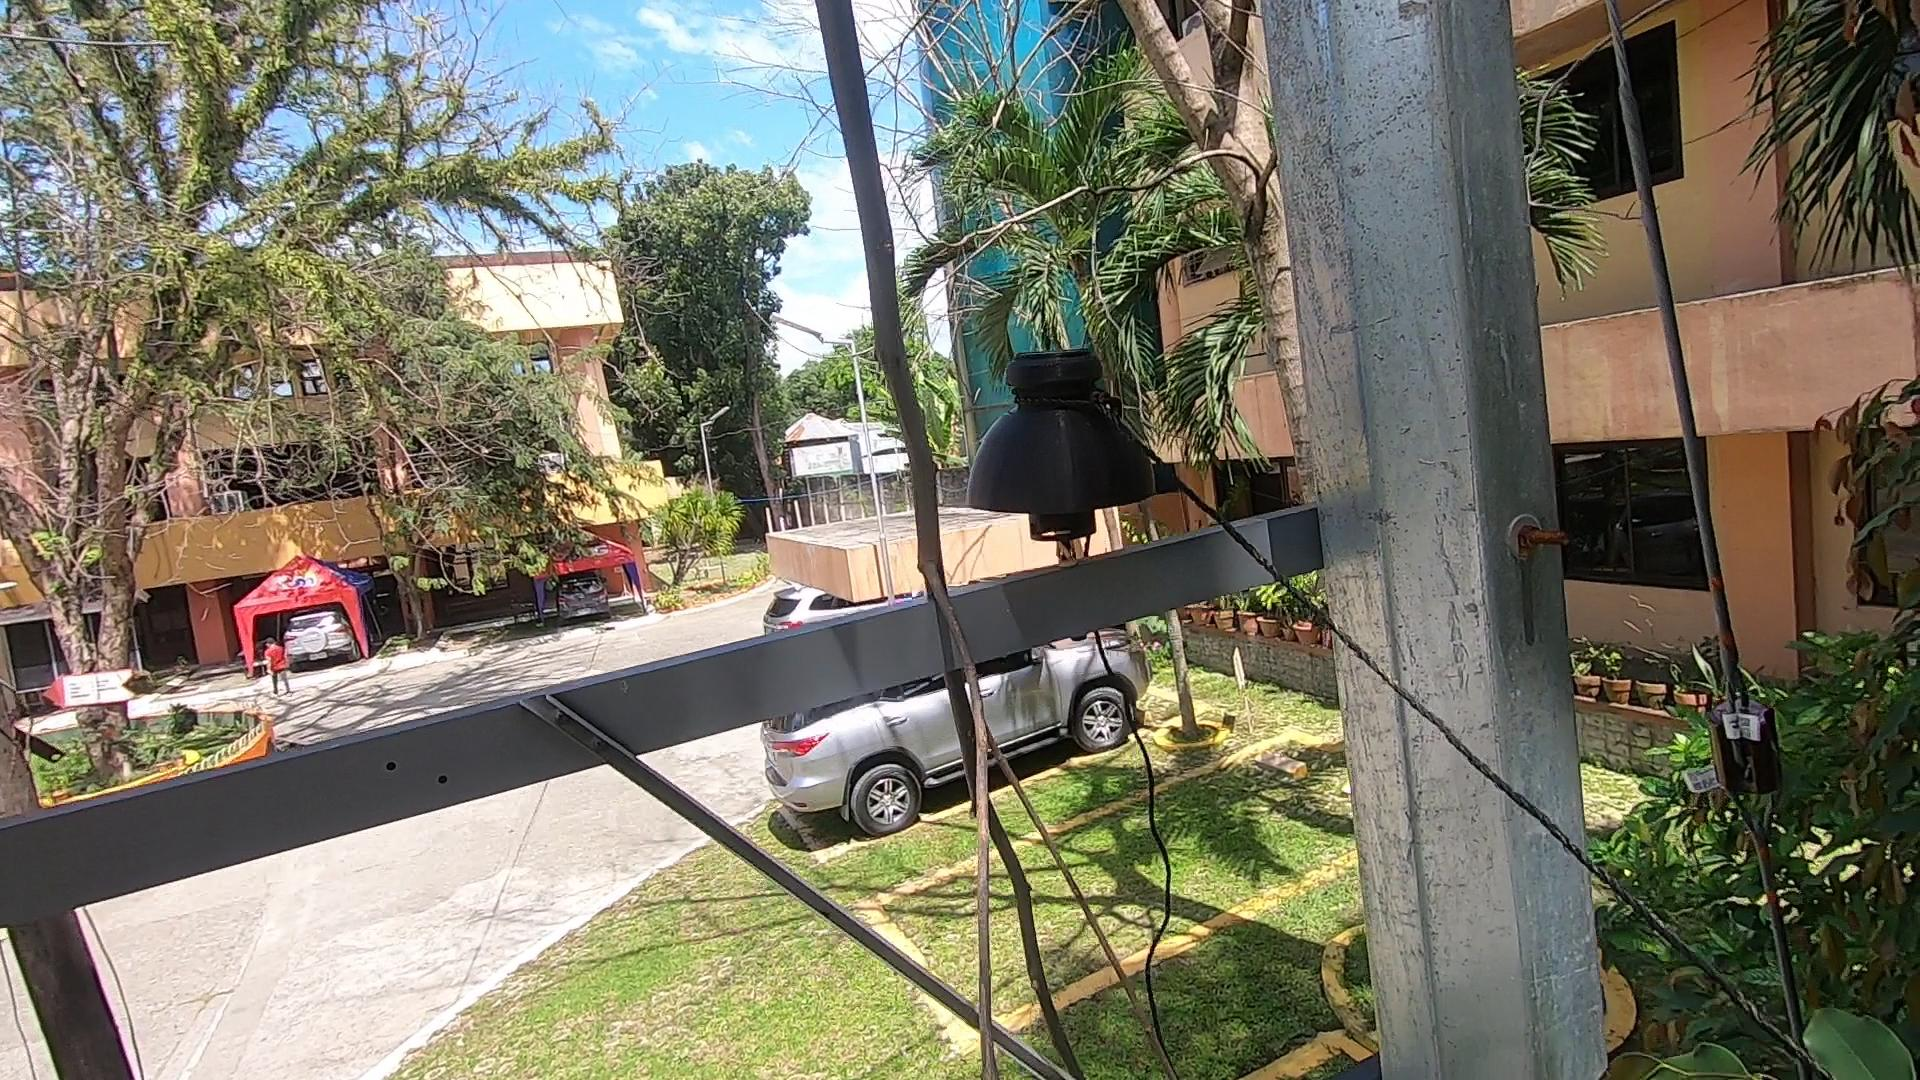tree branch: (723, 3, 1133, 1080)
